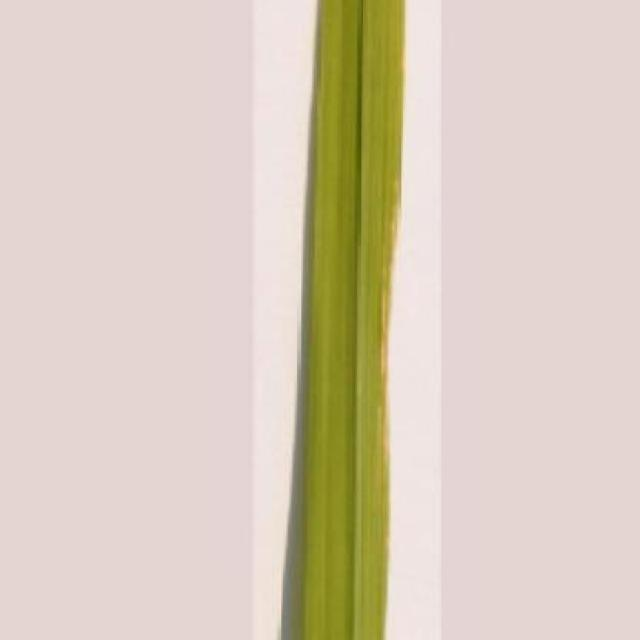Brown_Spot: (289, 0, 409, 640)
